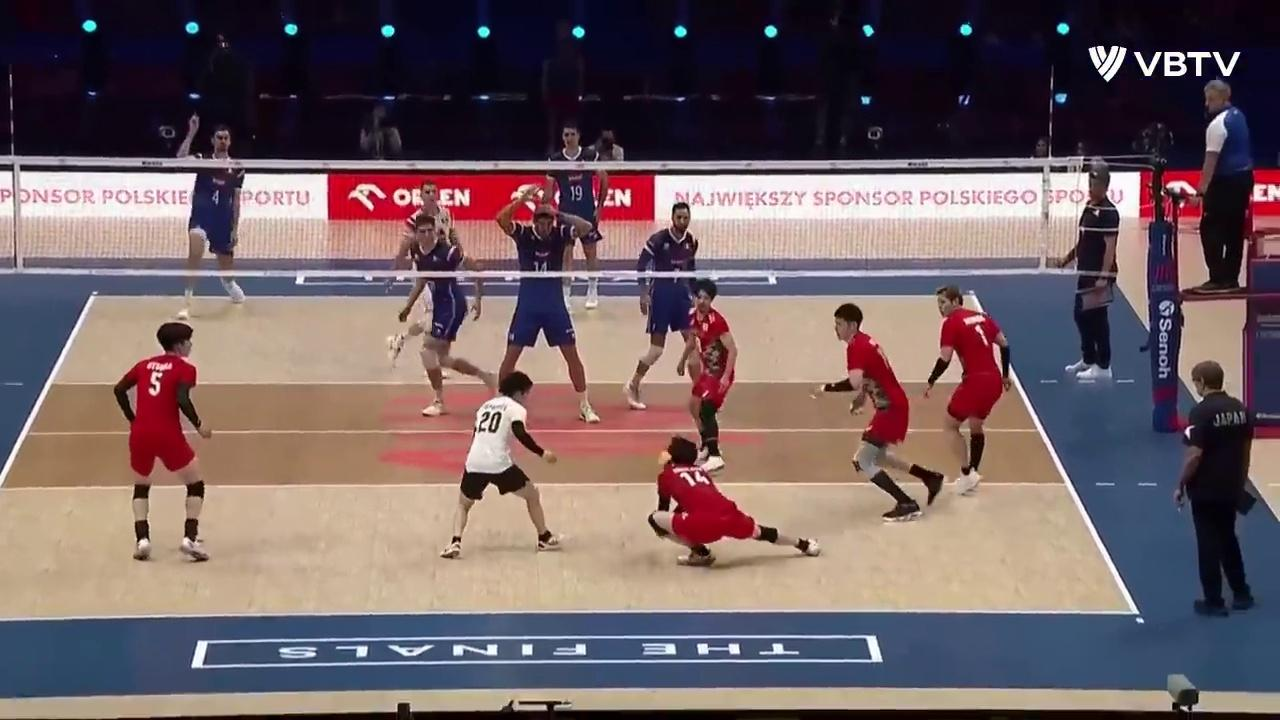ball: (658, 449, 671, 466)
